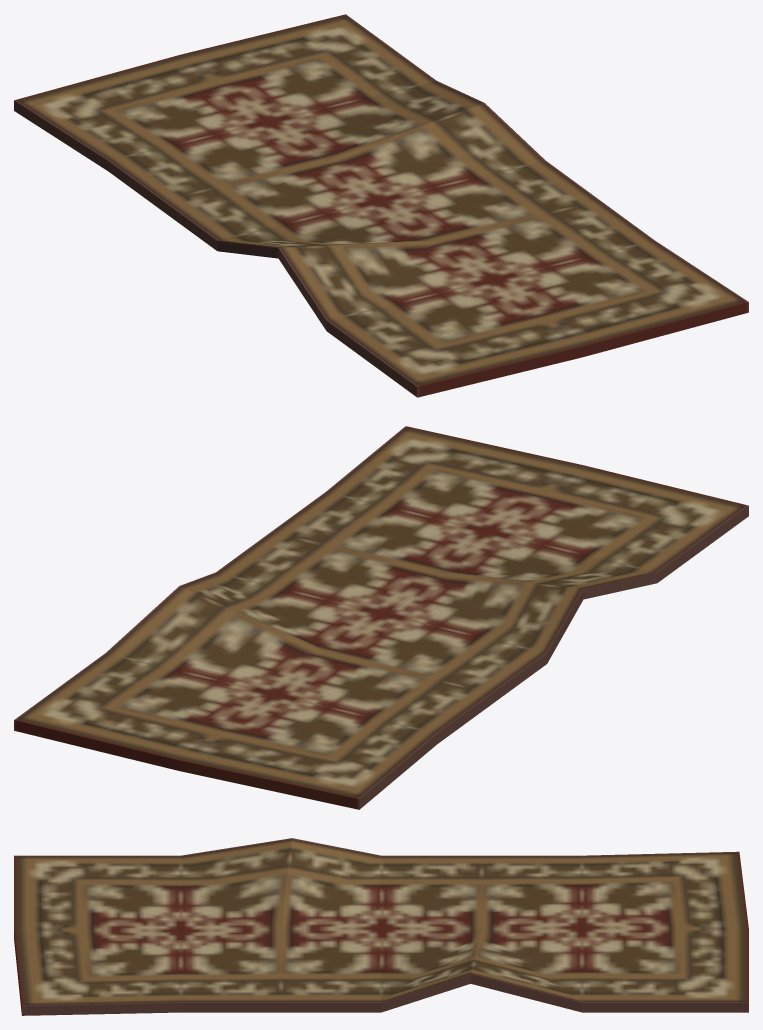
File: SM_Prop_Rug_21.glb
The picture shows the model from 3 angles, top to bottom: view 1: azimuth 30°, elevation 25°; view 2: azimuth 150°, elevation 25°; view 3: azimuth 270°, elevation 25°; orthographic projection. The views are drawn at different scales.
Parts seen in each view (by area): view 1: SM_Prop_Rug_21; view 2: SM_Prop_Rug_21; view 3: SM_Prop_Rug_21.
Boxes of the visible parts, box(x1,y1,x2,y2) form: SM_Prop_Rug_21: box(14, 14, 748, 397); SM_Prop_Rug_21: box(14, 426, 748, 809); SM_Prop_Rug_21: box(14, 838, 748, 1015).
Bounding box in the file's own units: 1.4 × 0.1387 × 2.82.
Materials: 1 (1 with a texture image).
